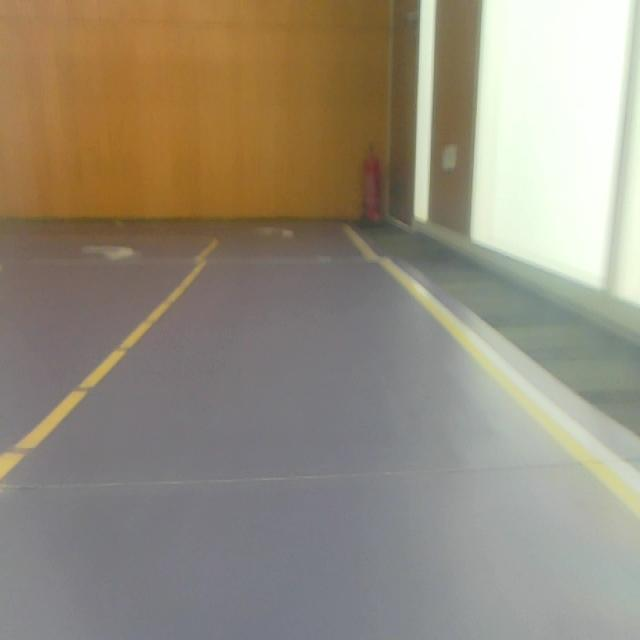left_lane: (0, 238, 216, 482)
right_lane: (343, 226, 640, 511)
